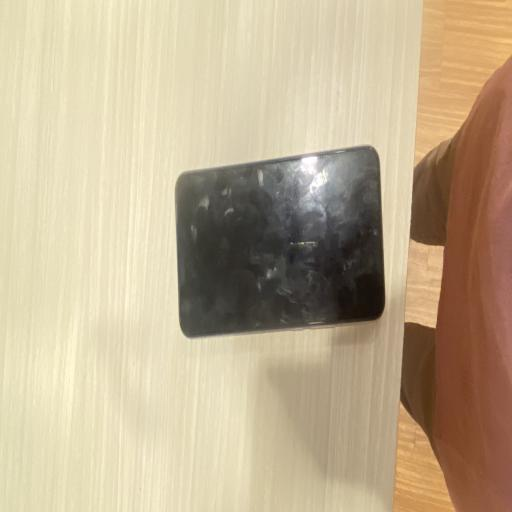hp: (172, 135, 396, 341)
